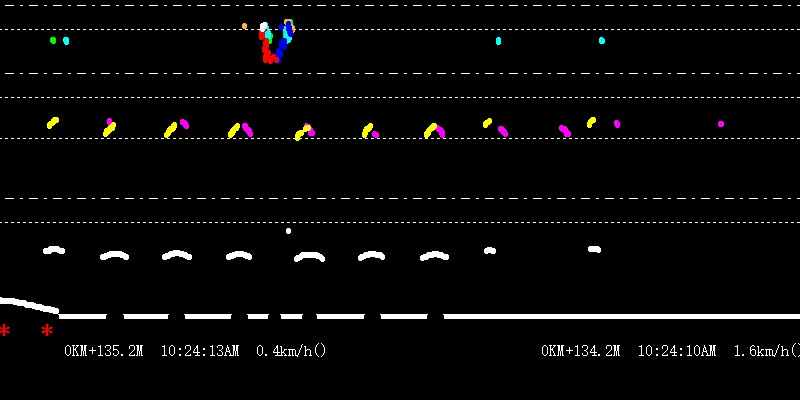J: (257, 4, 296, 63)
star: (39, 320, 53, 337)
y_p: (94, 115, 452, 273)
